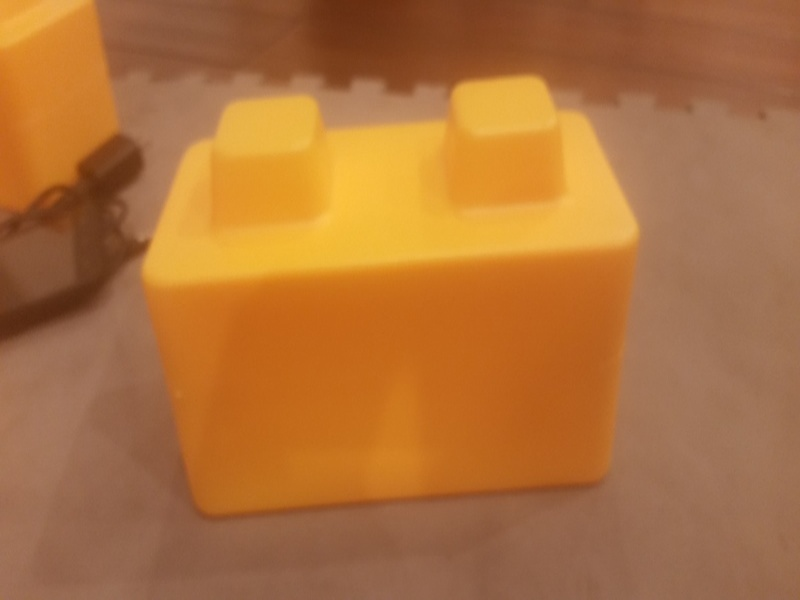Stone: (145, 71, 660, 534)
